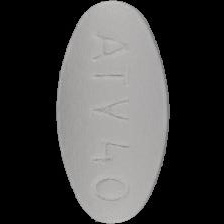68788-9681: (0, 0, 224, 224)
